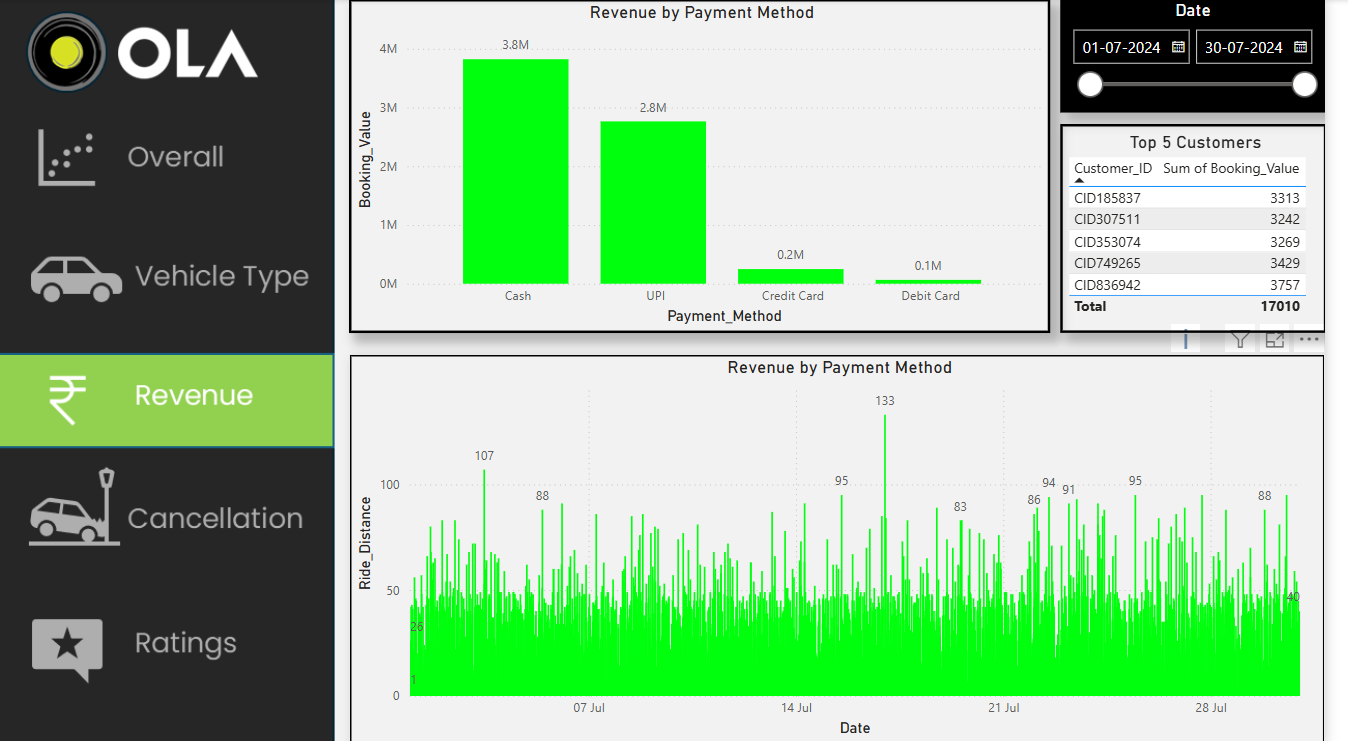

The page's visual inventory and layout, read from the dashboard file:
{"tool":"powerbi","page":{"name":"Revenue","canvas":[1280,720],"ordinal":2},"visuals":[{"type":"actionButton","box":[0,223.7,325,86.8],"z":0},{"type":"actionButton","box":[0,444.7,325,93.4],"z":1000},{"type":"actionButton","box":[0,580.3,325,93.4],"z":2000},{"type":"actionButton","box":[0,106.6,325,93.4],"z":3000},{"type":"columnChart","title":"Revenue by Payment Method","fields":{"Y":["Sum(July (2).Booking_Value)"],"Category":["July (2).Payment_Method"]},"box":[337.6,0,676.5,322.5],"z":4000},{"type":"columnChart","title":"Revenue by Payment Method","fields":{"Y":["Sum(July (2).Ride_Distance)"],"Category":["July (2).Date"]},"box":[337.6,343.1,942.7,377.4],"z":5000},{"type":"slicer","title":"Date","fields":{"Values":["July (2).Date"]},"box":[1023.7,0,256.6,109.8],"z":6000},{"type":"tableEx","title":"Top 5 Customers","fields":{"Values":["July (2).Customer_ID","Sum(July (2).Booking_Value)"]},"box":[1023.7,120.8,256.6,201.7],"z":7000}]}

Visuals, with their boxes on the page's 1280x720 design canvas (x1, y1, x2, y2). These are canvas units, not pixel positions in the 1348x741 screenshot, which may show the page scaled, cropped or inside an application window:
actionButton: (x1=0, y1=224, x2=325, y2=310)
actionButton: (x1=0, y1=445, x2=325, y2=538)
actionButton: (x1=0, y1=580, x2=325, y2=674)
actionButton: (x1=0, y1=107, x2=325, y2=200)
"Revenue by Payment Method" columnChart: (x1=338, y1=0, x2=1014, y2=322)
"Revenue by Payment Method" columnChart: (x1=338, y1=343, x2=1280, y2=720)
"Date" slicer: (x1=1024, y1=0, x2=1280, y2=110)
"Top 5 Customers" tableEx: (x1=1024, y1=121, x2=1280, y2=322)
